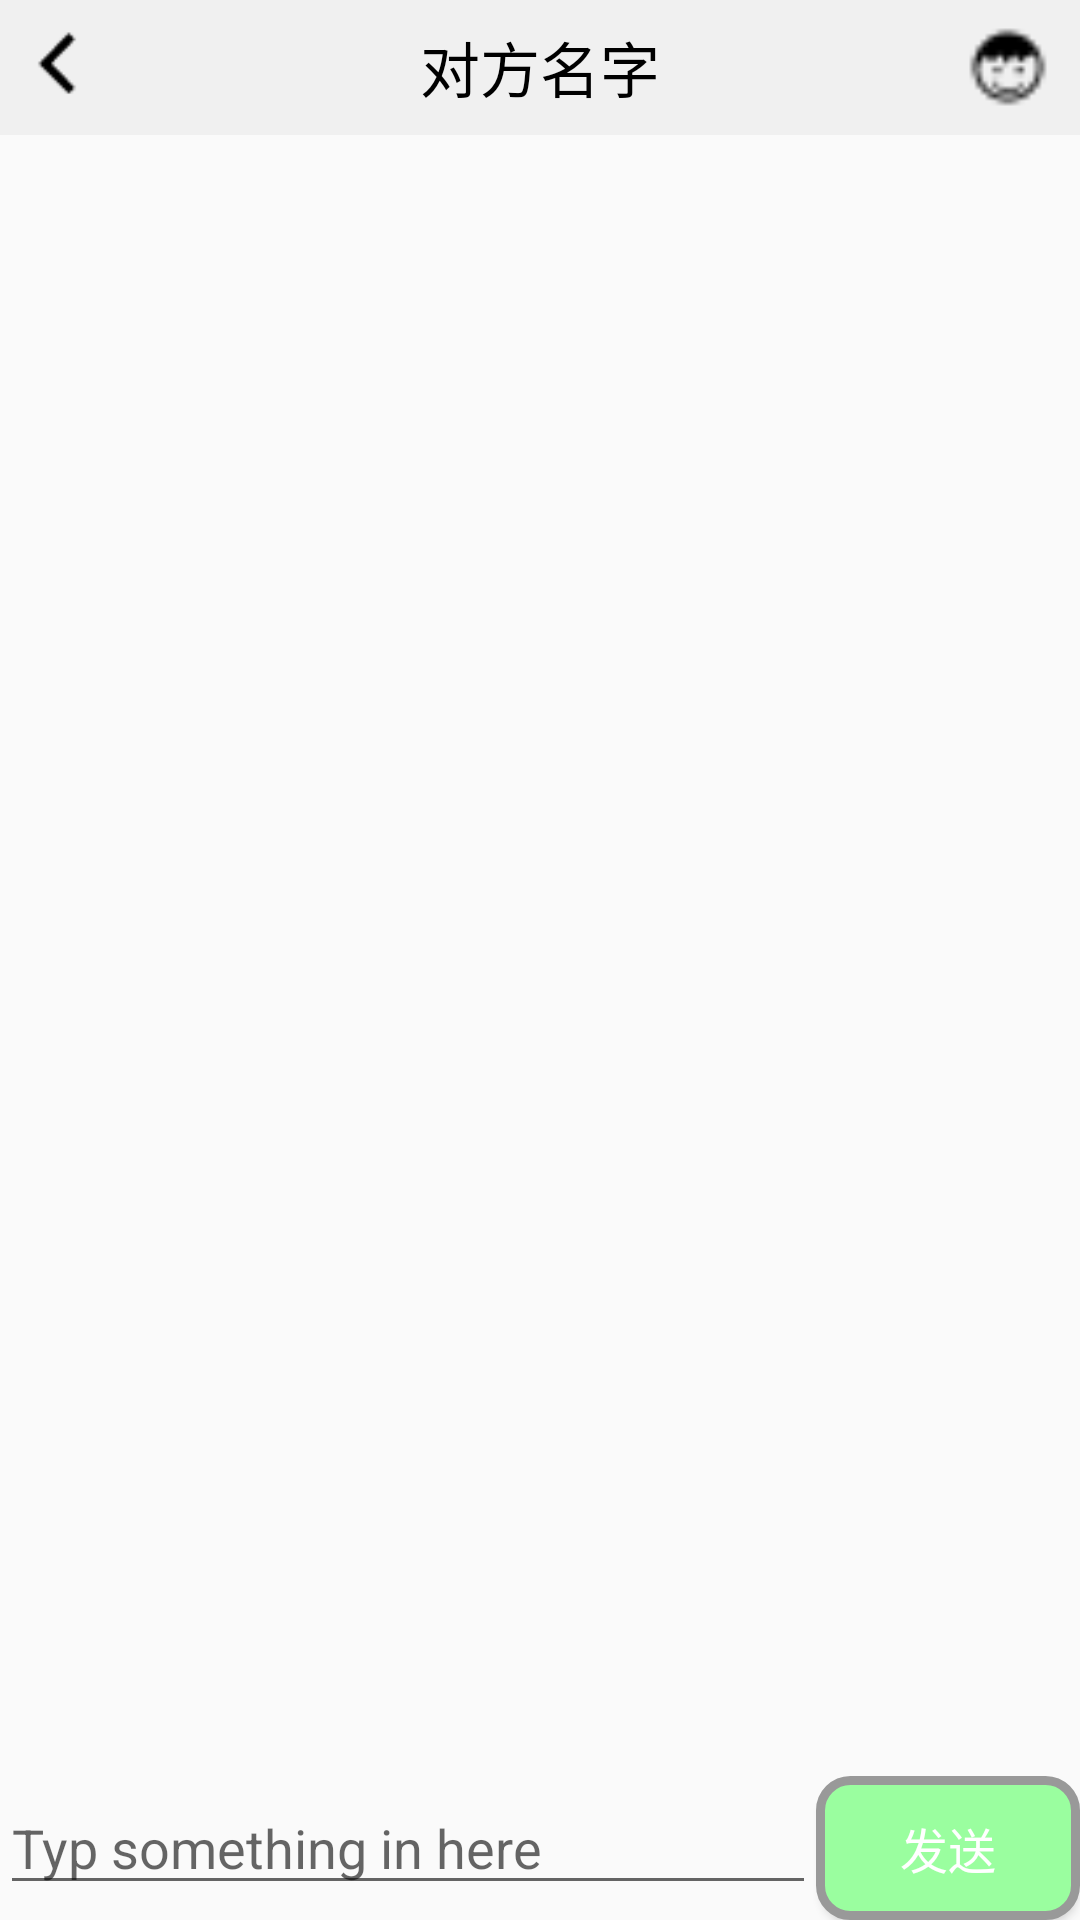

Icons on this 1080px x 1920px Android screen, each with its box as (x1, y1, x2, y2):
back: (38, 32, 76, 94)
people: (970, 29, 1046, 105)
